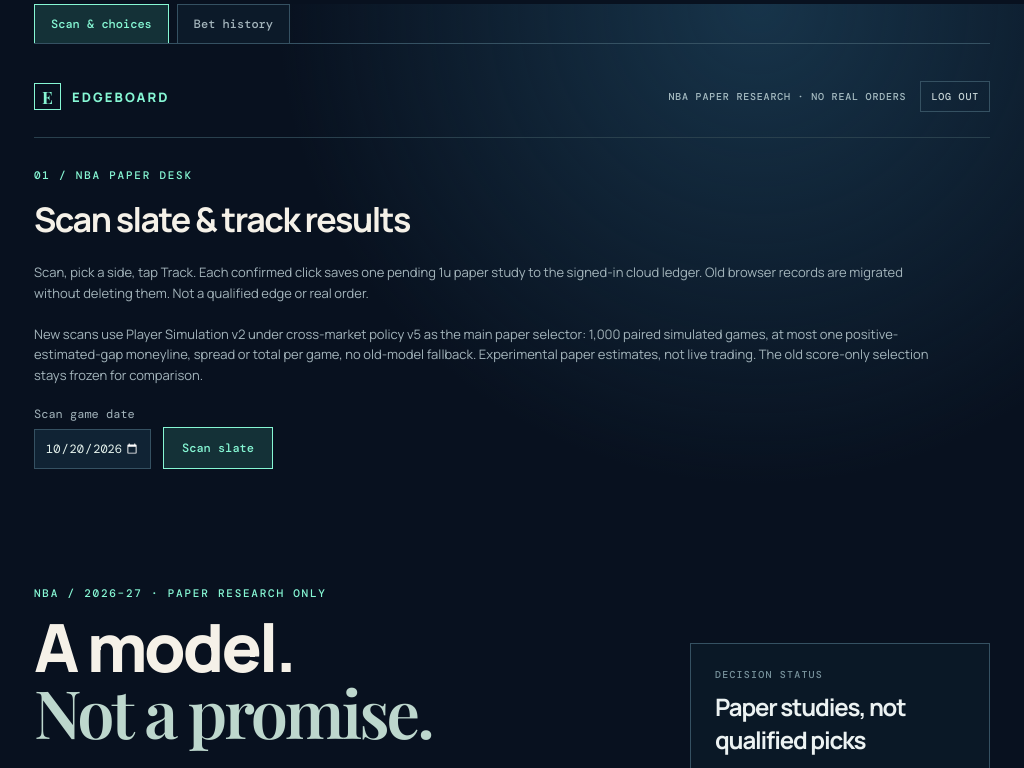
October 20 NBA Kalshi checklist › shows missing player-simulation inputs as unknown without adding a trackable pick
Click the button "Scan slate".
click(218, 448)  # box [163,427,273,469]
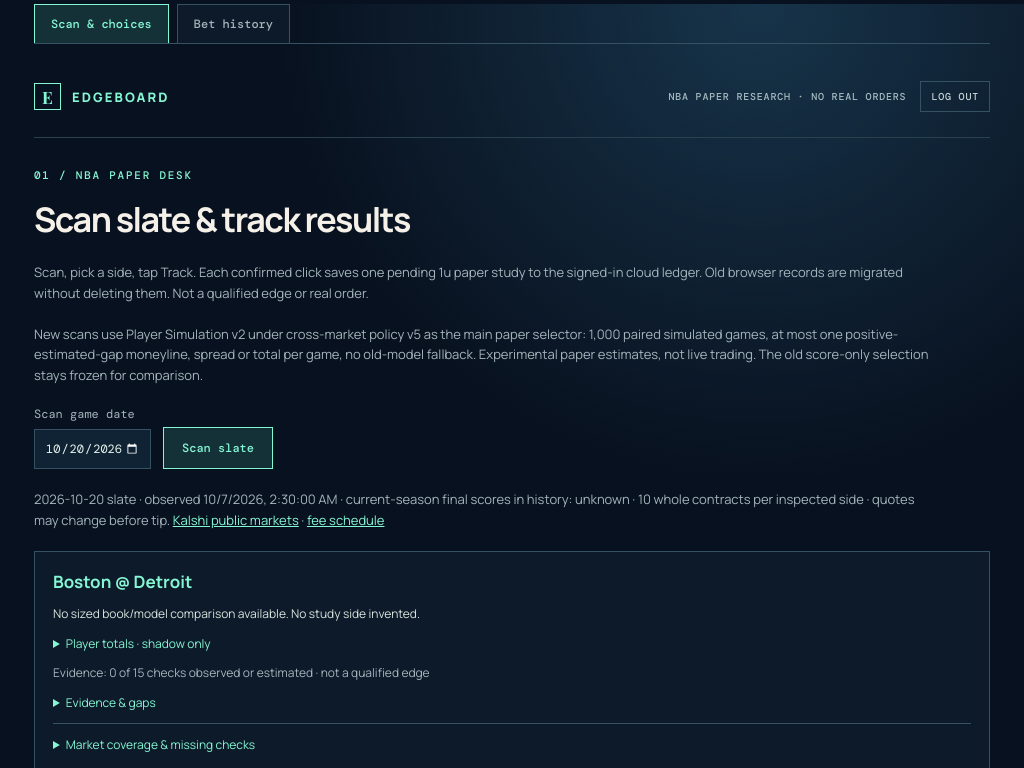
expect the heading "Player totals · shadow only" is shown: met, box [66,635,211,652]
